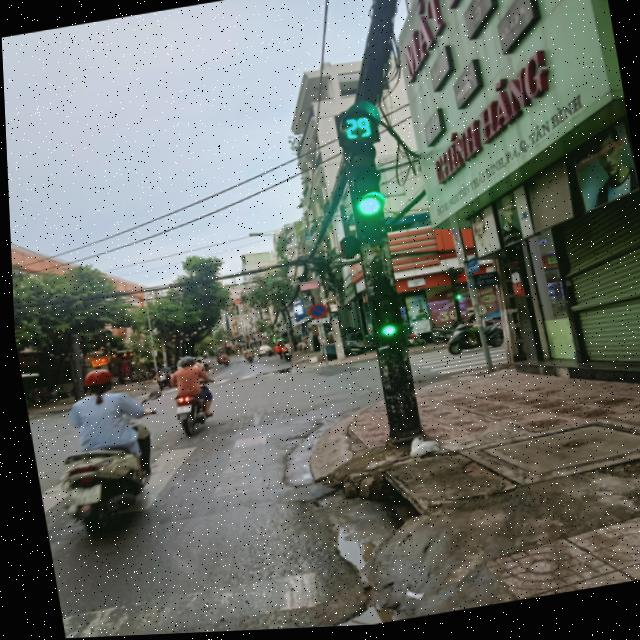Green: (335, 142, 391, 232), (363, 291, 404, 350)
